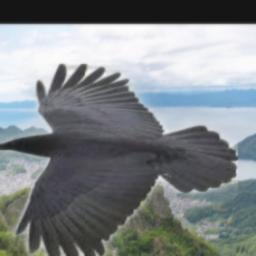Crow: (0, 64, 239, 256)
